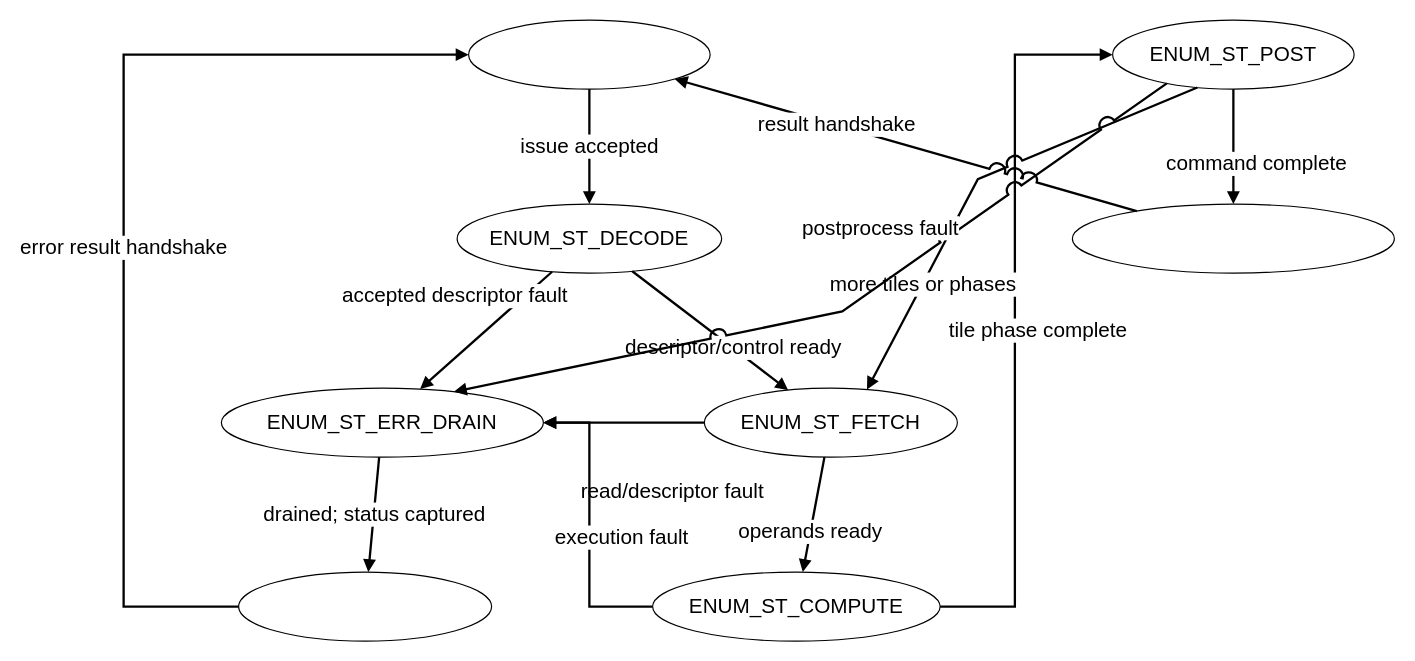
Some shapes in this 1415 by 661 pixel diagram are drawn without their labels. Here are the shapes that lost their labels. From the top down, the centre of each, then its label:
At (588,54): "ENUM_ST_IDLE".
At (1232,238): "ENUM_ST_WRITEBACK".
At (364,606): "ENUM_ST_ERROR".
